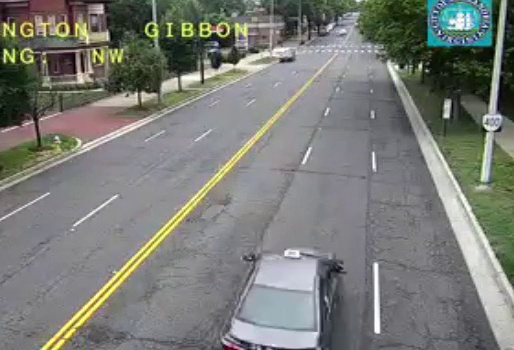car: (220, 247, 340, 350)
